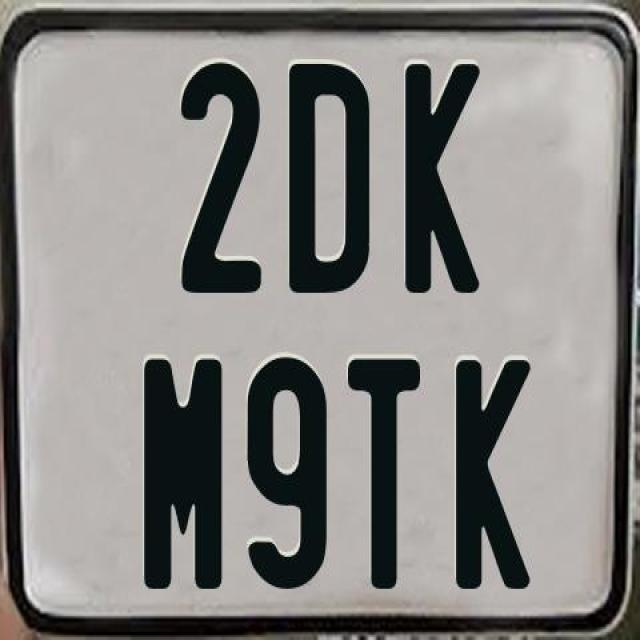2: (181, 59, 263, 299)
9: (242, 356, 326, 594)
D: (288, 59, 376, 298)
K: (402, 59, 479, 294), (456, 357, 535, 586)
M: (140, 355, 218, 587)
T: (346, 356, 424, 588)
